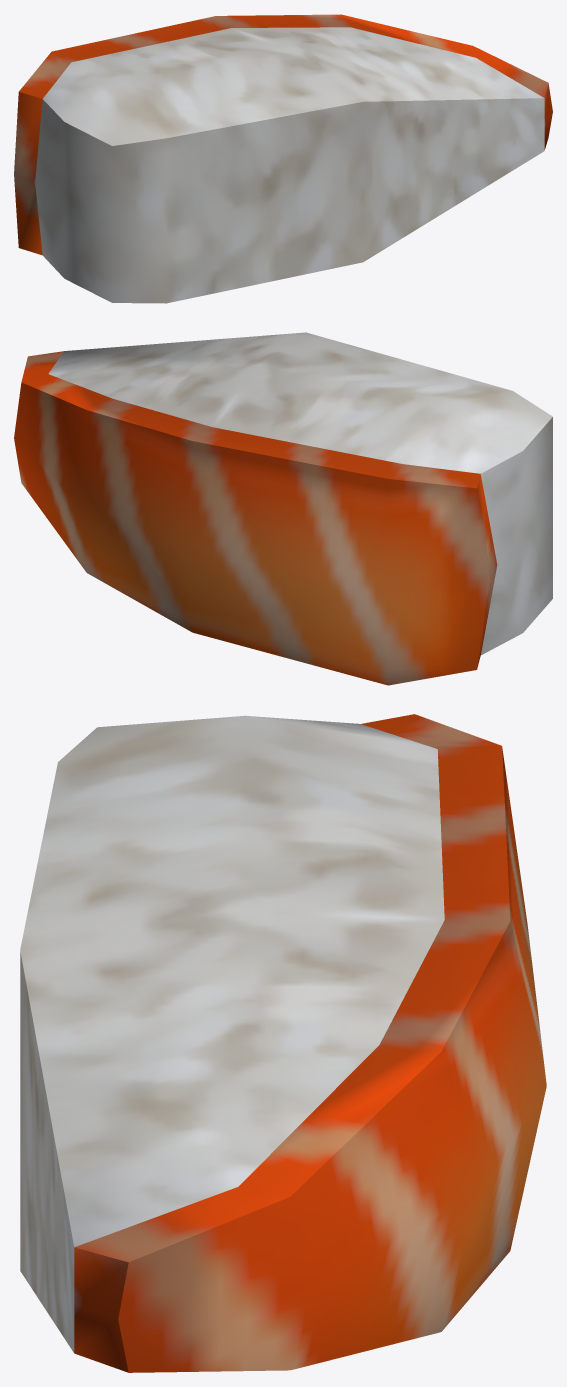
Rendered from Sushi.fbx.
3 views of the same model, one above another, from view 1: azimuth 30°, elevation 25°; view 2: azimuth 150°, elevation 25°; view 3: azimuth 270°, elevation 25° (orthographic). The views are drawn at different scales.
Parts seen in each view (by area): view 1: Sushi; view 2: Sushi; view 3: Sushi.
Part boxes in pixels (x1,y1,x2,y2): Sushi: [14, 14, 552, 303]; Sushi: [14, 332, 552, 685]; Sushi: [20, 714, 546, 1372].
Bounding box in the file's own units: 12.68 × 6.18 × 5.48.
